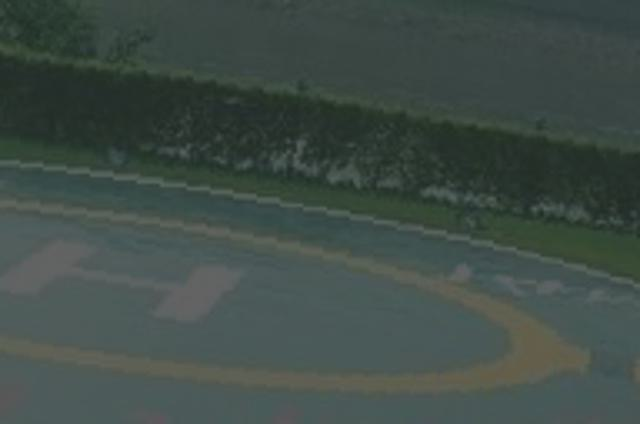Apron: (1, 198, 595, 395)
